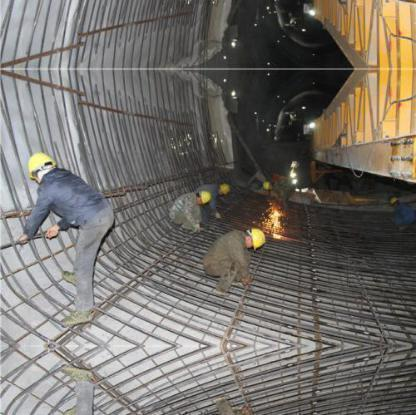helmet: (28, 151, 55, 181), (248, 228, 268, 255), (218, 179, 232, 195), (199, 190, 213, 206)
